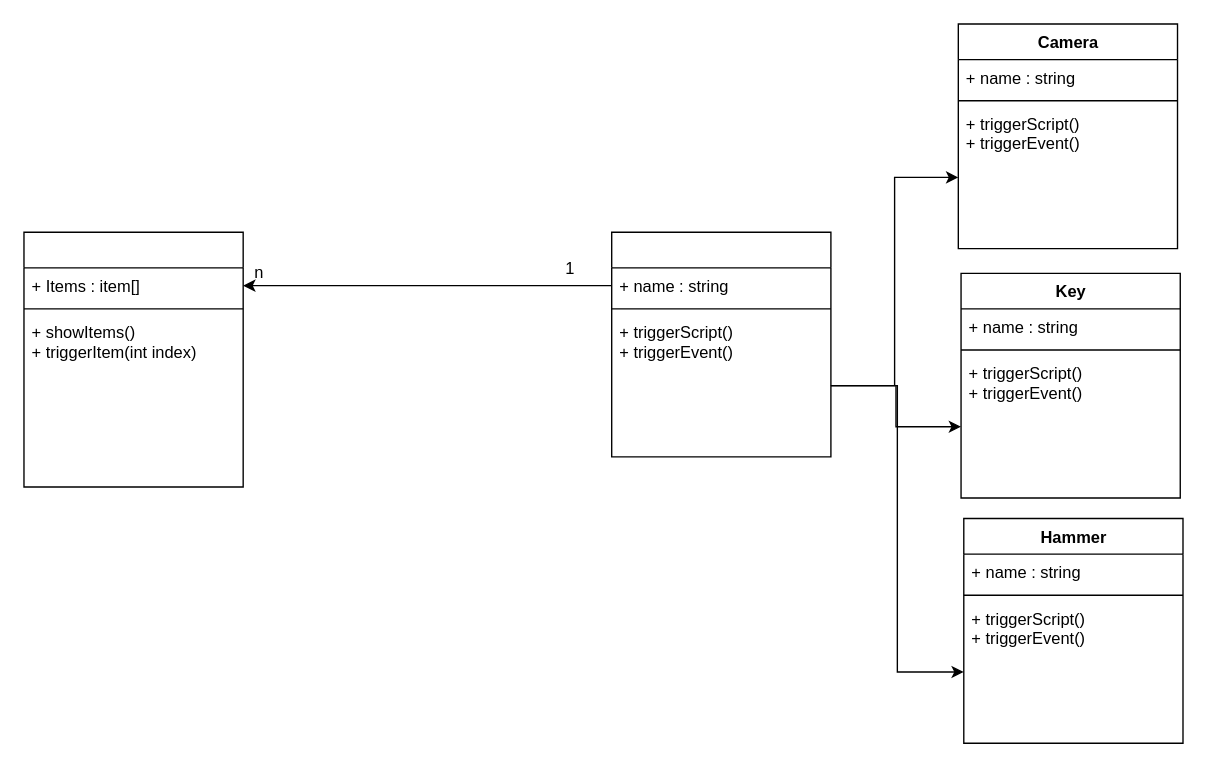
Some shapes in this 1207 by 771 pixel diagram are drawn without their labels. The shapes that lost their labels are listed below. From the top down, each one's box as (x1, y1, x2, y2) in pixels, then its label:
(23, 231, 243, 487): Inventory
(610, 231, 831, 457): Item
